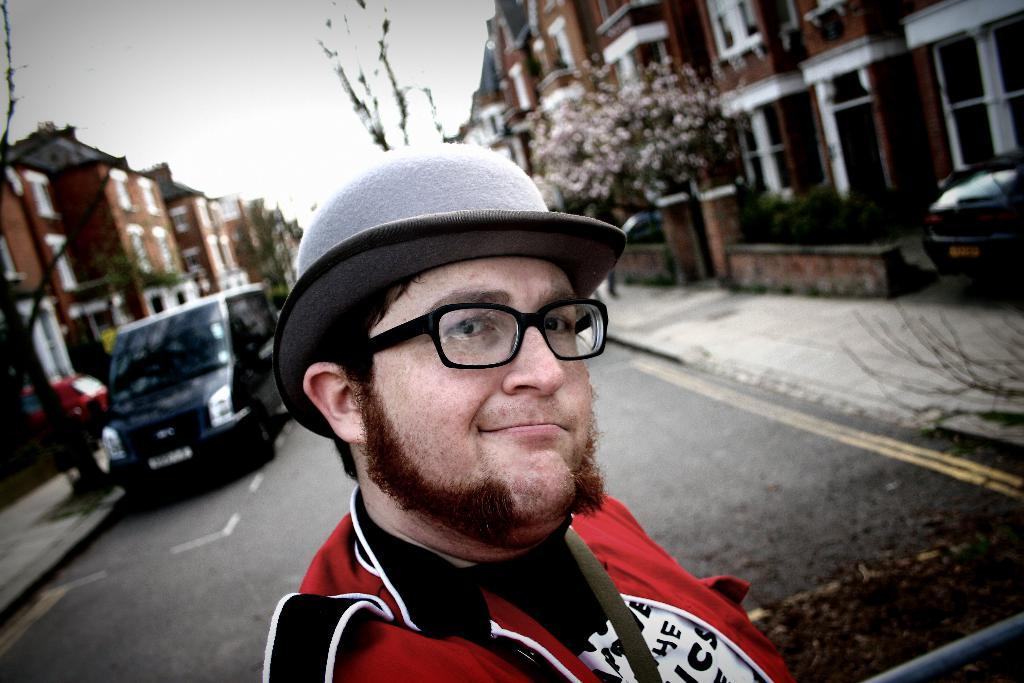Hat: (273, 140, 624, 445)
